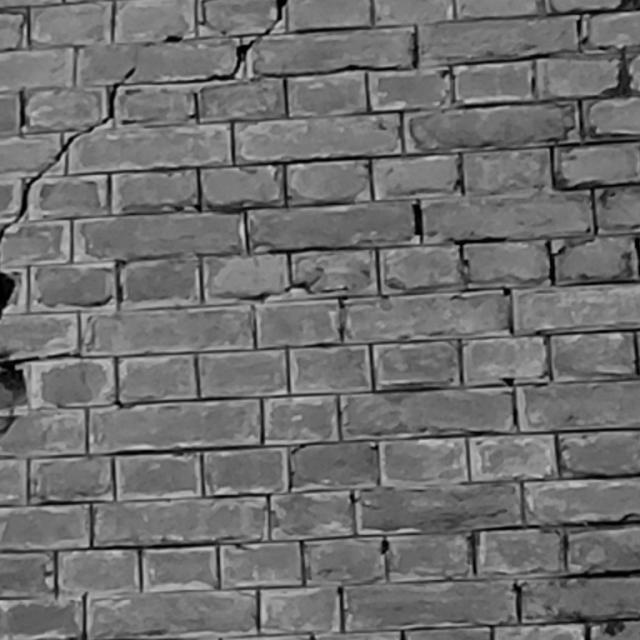crack: (1, 66, 136, 240), (192, 0, 288, 81), (1, 355, 41, 437), (1, 270, 16, 320)
